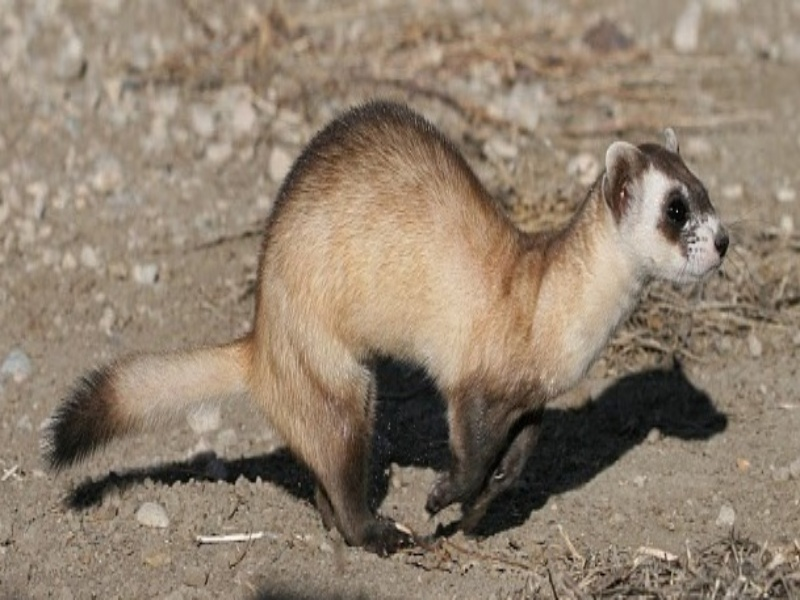minkish: (44, 97, 733, 551)
